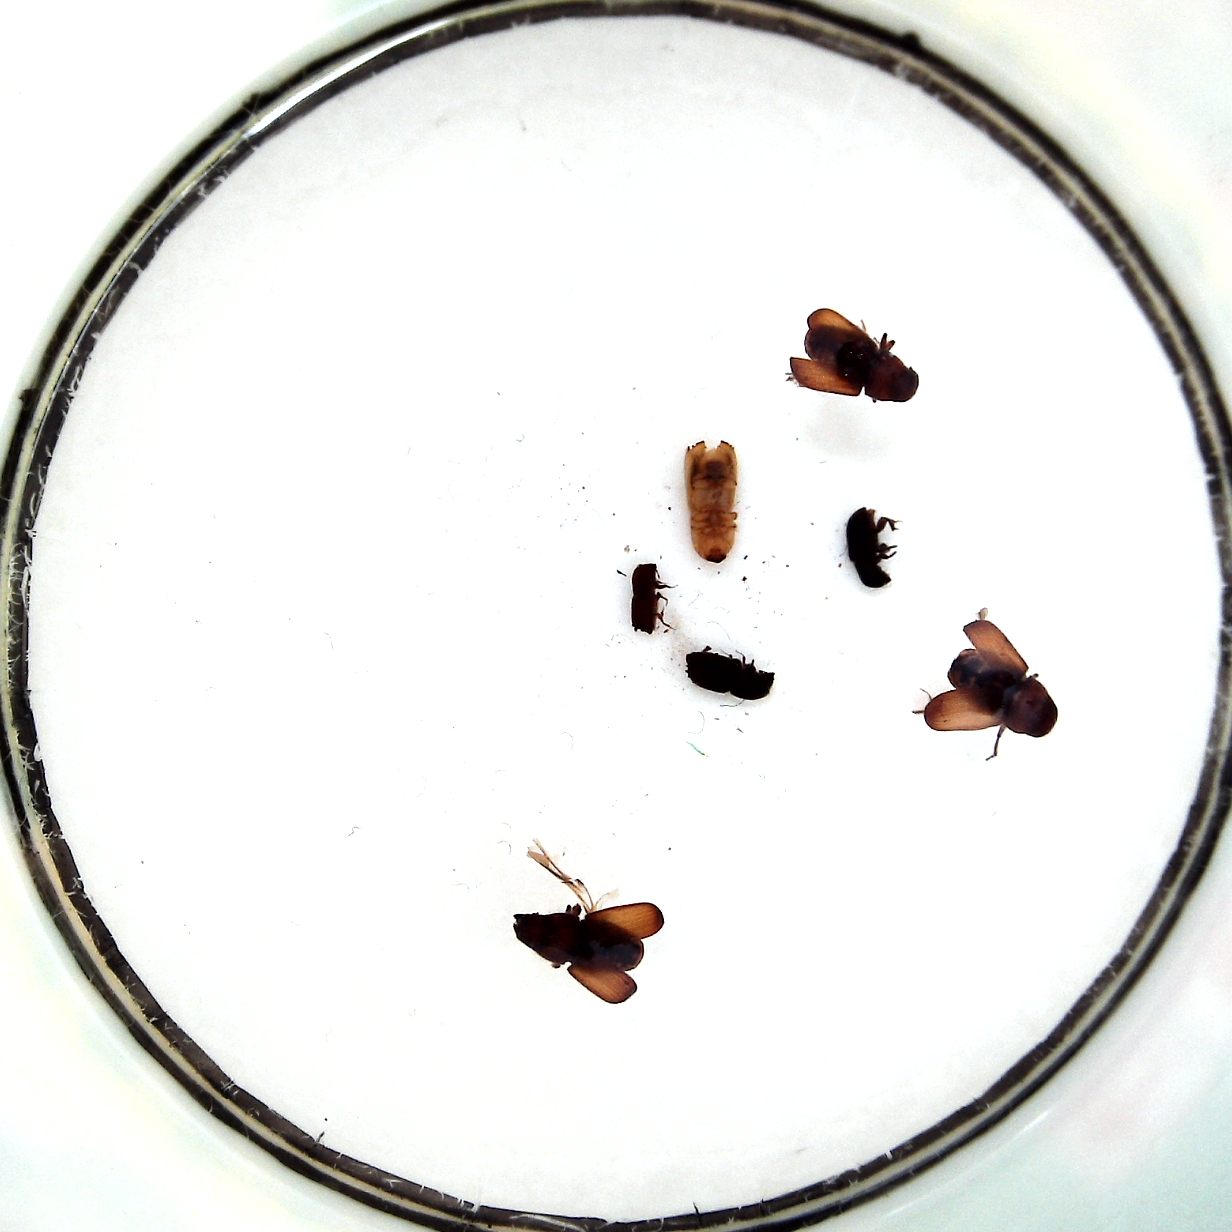Boerner: (681, 435, 740, 564)
Leconte: (508, 892, 665, 1007), (921, 617, 1062, 741), (786, 309, 922, 404)
Linnaeus: (683, 645, 778, 699)
acuminatus: (630, 558, 668, 635)
armandi: (842, 504, 899, 586)
